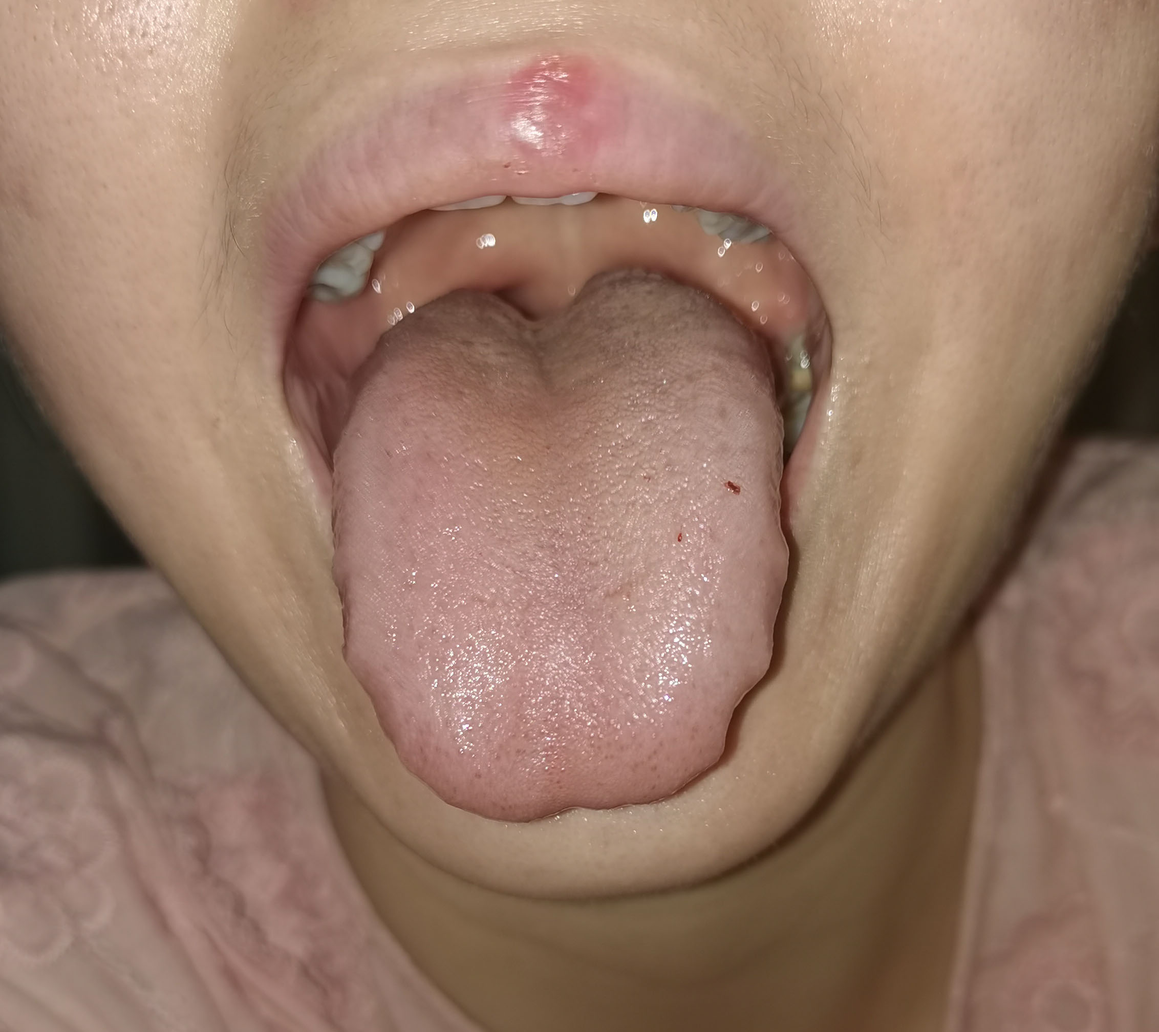baitaishe: (330, 266, 790, 822)
chihenshe: (331, 524, 410, 770), (702, 557, 790, 771)
shenquao: (451, 266, 642, 339)
